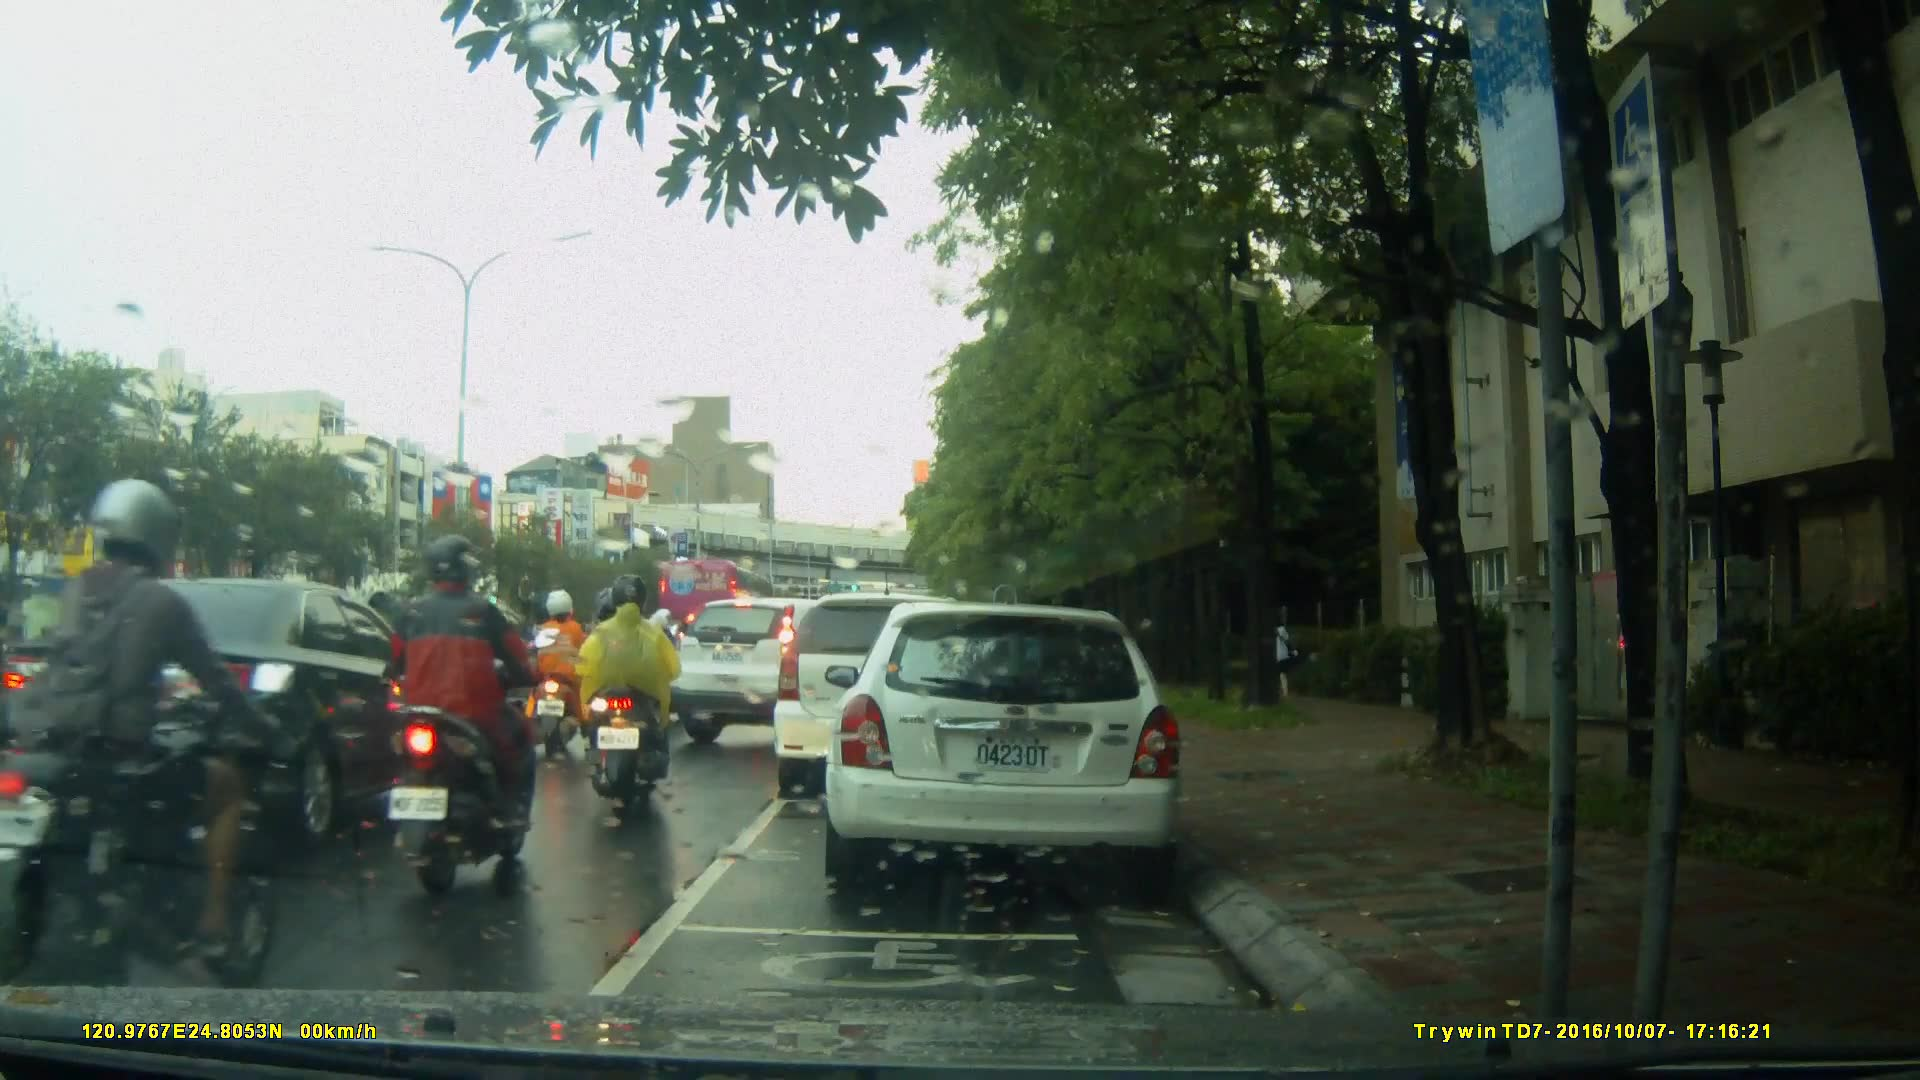rider: (9, 482, 302, 1016), (391, 537, 563, 897), (576, 582, 687, 818), (580, 583, 661, 783), (529, 592, 594, 757)
vehicle: (7, 575, 468, 852), (835, 594, 1194, 898), (776, 590, 1026, 784), (667, 592, 908, 751), (656, 558, 776, 642)
